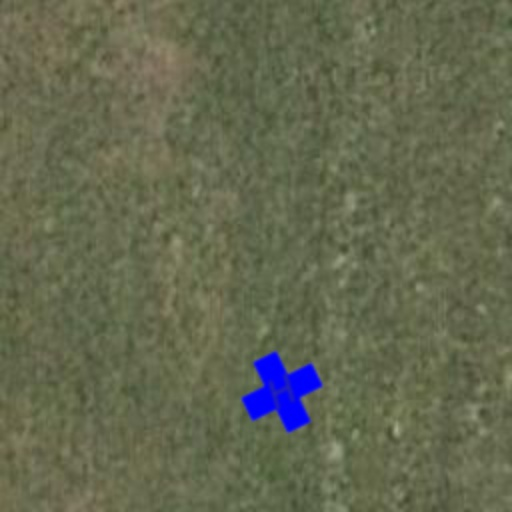cross: (228, 338, 336, 446)
